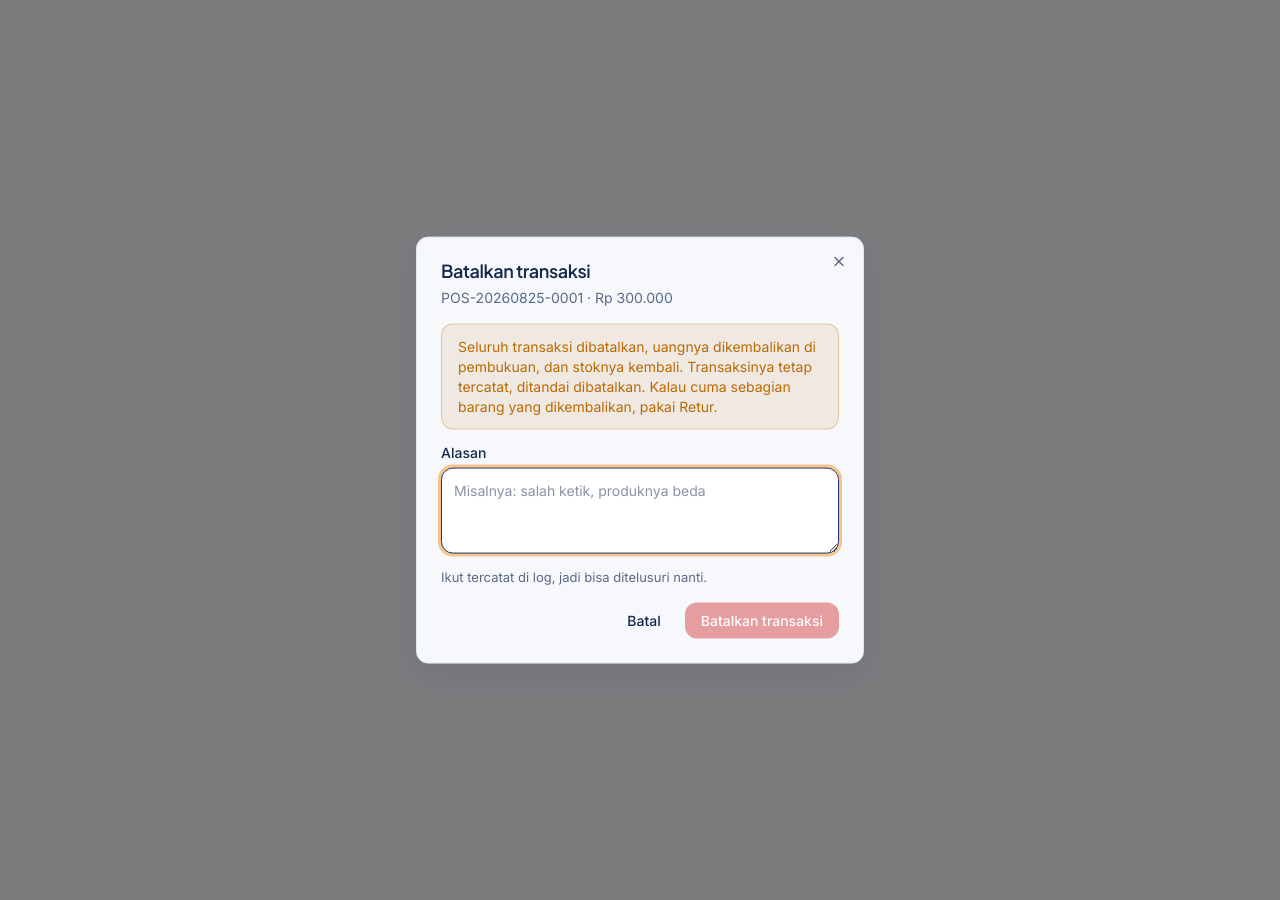
Test: VoidTransactionDialog › surfaces the server's refusal as written, so it can name Retur
Type "Salah" into the text box labelled "Alasan" at x=640, y=511, box [441,468,839,554]
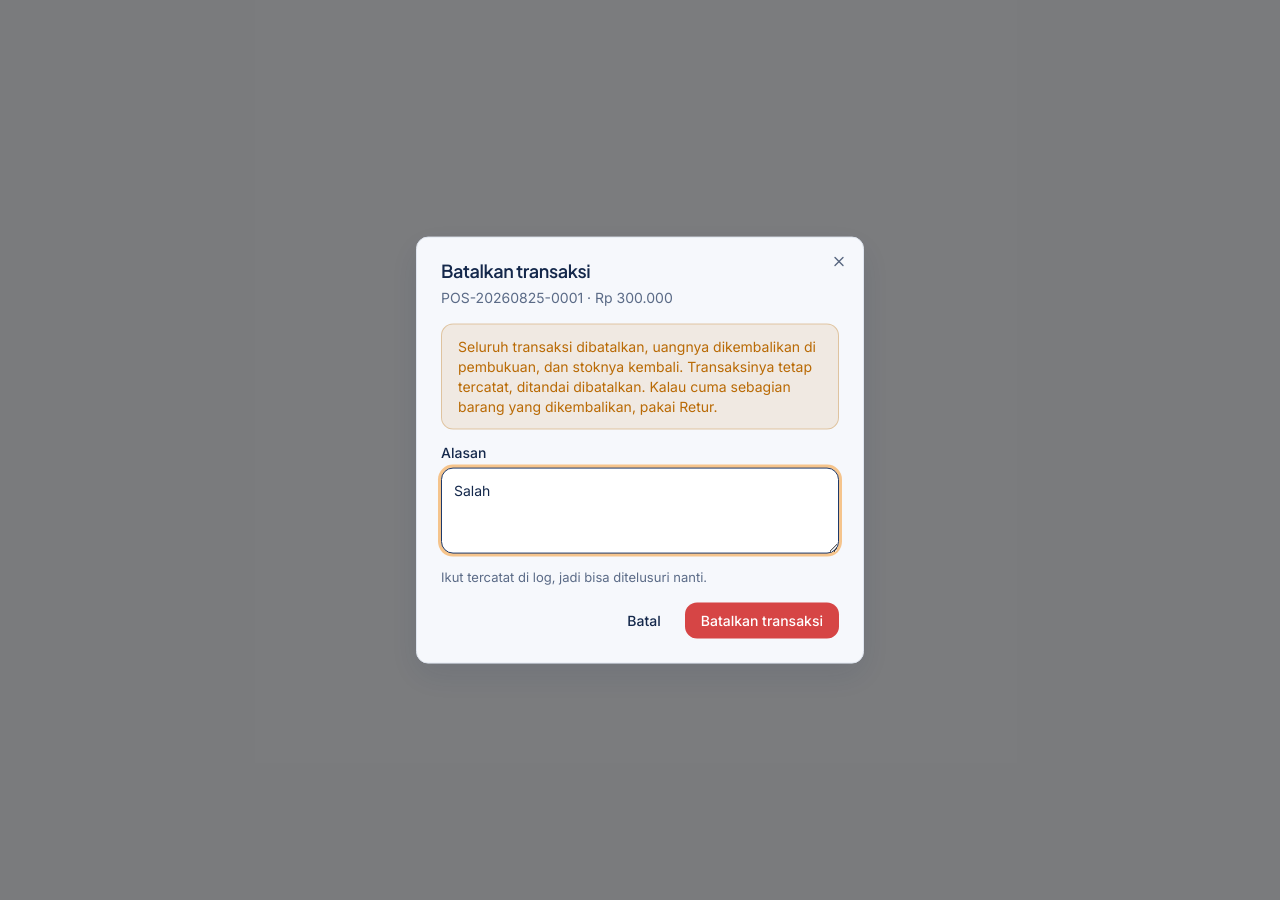
Click the button "Batalkan transaksi" at x=762, y=620, box [685,602,839,638]
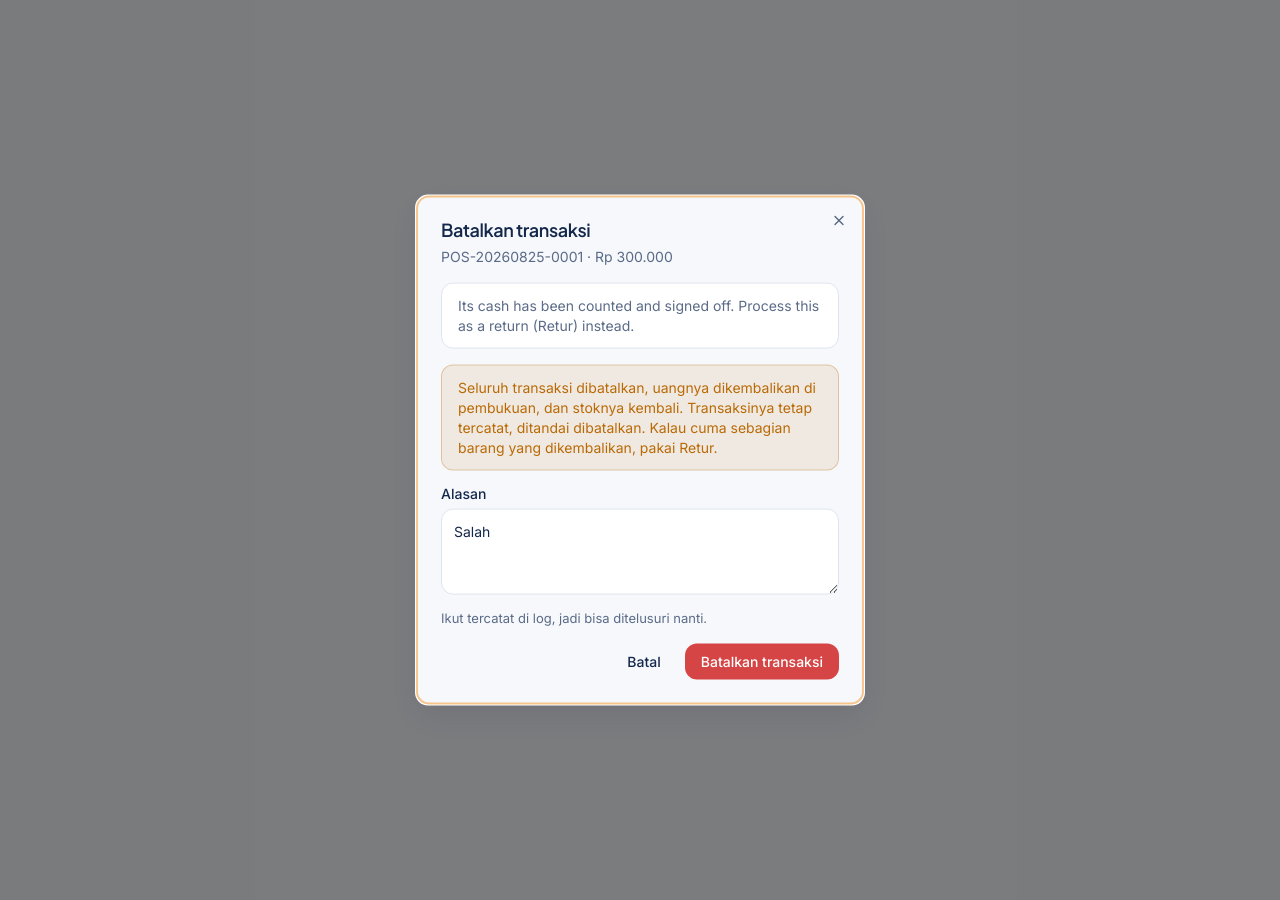
Check: the text "Retur) instead" is shown, box [458,297,819,334]
